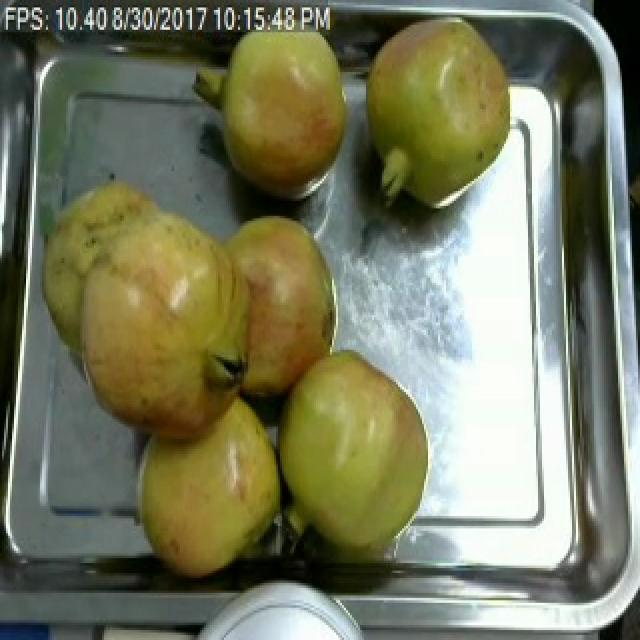fruit: (354, 8, 530, 224), (272, 335, 438, 563), (54, 290, 260, 467), (114, 400, 298, 590), (206, 5, 360, 208), (196, 203, 346, 410)
